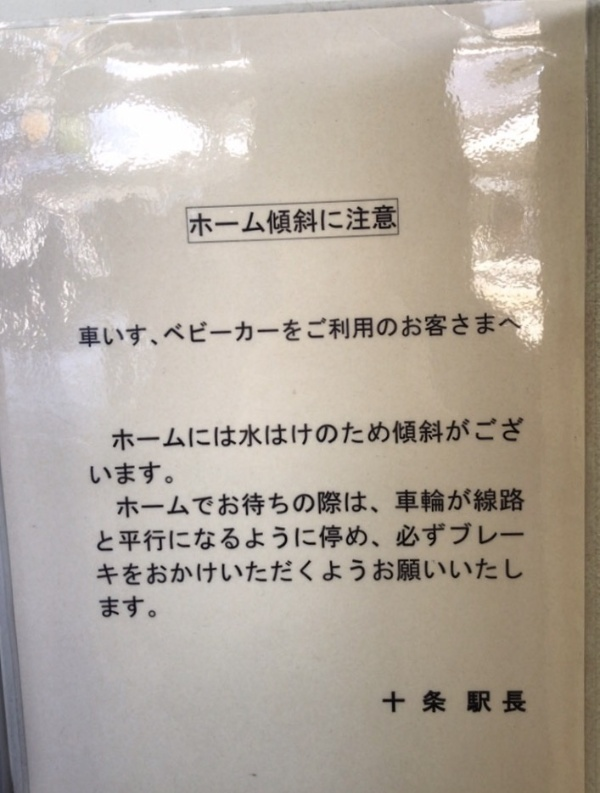text: (81, 305, 96, 353), (97, 305, 112, 353), (113, 305, 128, 353), (129, 305, 144, 353), (145, 305, 160, 353), (161, 305, 176, 353), (177, 305, 192, 353), (193, 305, 208, 353), (209, 305, 224, 353), (225, 305, 240, 353), (241, 305, 256, 353), (257, 305, 272, 353), (273, 305, 288, 353), (289, 305, 304, 353), (305, 305, 320, 353), (321, 305, 336, 353), (337, 305, 352, 353), (353, 305, 368, 353), (369, 305, 384, 353), (385, 305, 400, 353), (401, 305, 416, 353), (417, 305, 432, 353), (433, 305, 448, 353), (449, 305, 464, 353), (465, 305, 480, 353), (481, 305, 496, 353), (497, 305, 512, 353), (113, 485, 128, 531), (129, 485, 144, 531), (145, 485, 160, 531), (161, 485, 176, 531), (177, 485, 192, 531), (193, 485, 208, 531), (209, 485, 224, 531), (225, 485, 240, 531), (241, 485, 256, 531), (257, 485, 272, 531), (273, 485, 288, 531), (289, 485, 304, 531), (305, 485, 320, 531), (321, 485, 336, 531), (337, 485, 352, 531), (353, 485, 368, 531), (369, 485, 384, 531), (385, 485, 400, 531), (401, 485, 416, 531), (417, 485, 432, 531), (433, 485, 448, 531), (449, 485, 464, 531), (465, 485, 480, 531), (481, 485, 496, 531), (497, 485, 512, 531), (97, 453, 112, 496), (113, 453, 128, 496), (129, 453, 144, 496), (145, 453, 160, 496), (513, 485, 527, 531), (193, 198, 208, 240), (209, 198, 224, 240), (225, 198, 240, 240), (241, 198, 256, 240), (257, 198, 272, 240), (273, 198, 288, 240), (289, 198, 304, 240), (305, 198, 320, 240), (321, 198, 336, 240), (337, 198, 352, 240), (353, 198, 368, 240), (369, 198, 384, 240), (385, 198, 399, 240), (513, 520, 529, 556), (385, 687, 400, 725), (401, 687, 416, 725), (417, 687, 432, 725), (433, 687, 448, 725), (449, 687, 464, 725), (465, 687, 480, 725), (481, 687, 496, 725), (497, 687, 512, 725), (513, 687, 528, 725), (161, 453, 174, 496), (113, 417, 128, 453), (129, 417, 144, 453), (145, 417, 160, 453), (161, 417, 176, 453), (177, 417, 192, 453), (193, 417, 208, 453), (209, 417, 224, 453), (225, 417, 240, 453), (241, 417, 256, 453), (257, 417, 272, 453), (273, 417, 288, 453), (289, 417, 304, 453), (305, 417, 320, 453), (321, 417, 336, 453), (337, 417, 352, 453), (353, 417, 368, 453), (369, 417, 384, 453), (385, 417, 400, 453), (401, 417, 416, 453), (417, 417, 432, 453), (433, 417, 448, 453), (449, 417, 464, 453), (465, 417, 480, 453), (481, 417, 496, 453), (497, 417, 512, 453), (97, 520, 112, 556), (113, 520, 128, 556), (129, 520, 144, 556), (145, 520, 160, 556), (161, 520, 176, 556), (177, 520, 192, 556), (193, 520, 208, 556), (209, 520, 224, 556), (225, 520, 240, 556), (241, 520, 256, 556), (257, 520, 272, 556), (273, 520, 288, 556), (289, 520, 304, 556), (305, 520, 320, 556), (321, 520, 336, 556), (337, 520, 352, 556), (353, 520, 368, 556), (369, 520, 384, 556), (385, 520, 400, 556), (401, 520, 416, 556), (417, 520, 432, 556), (433, 520, 448, 556), (449, 520, 464, 556), (465, 520, 480, 556), (481, 520, 496, 556), (497, 520, 512, 556), (513, 305, 524, 353), (97, 594, 112, 626), (113, 594, 128, 626), (129, 594, 144, 626), (97, 557, 112, 588), (113, 557, 128, 588), (129, 557, 144, 588), (145, 557, 160, 588), (161, 557, 176, 588), (177, 557, 192, 588), (193, 557, 208, 588), (209, 557, 224, 588), (225, 557, 240, 588), (241, 557, 256, 588), (257, 557, 272, 588), (273, 557, 288, 588), (289, 557, 304, 588), (305, 557, 320, 588), (321, 557, 336, 588), (337, 557, 352, 588), (353, 557, 368, 588), (369, 557, 384, 588), (385, 557, 400, 588), (401, 557, 416, 588), (417, 557, 432, 588), (433, 557, 448, 588), (449, 557, 464, 588), (465, 557, 480, 588), (481, 557, 496, 588), (497, 557, 512, 588), (513, 557, 526, 588), (513, 417, 524, 453), (145, 594, 156, 626), (88, 453, 96, 496), (186, 198, 192, 240), (380, 687, 384, 725), (109, 417, 112, 453), (78, 305, 80, 353), (94, 557, 96, 588)
